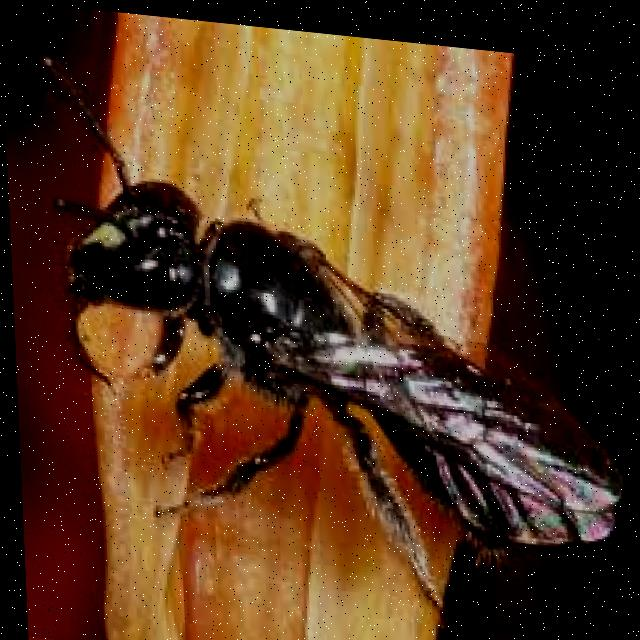Braunsapis: (27, 43, 635, 631)
